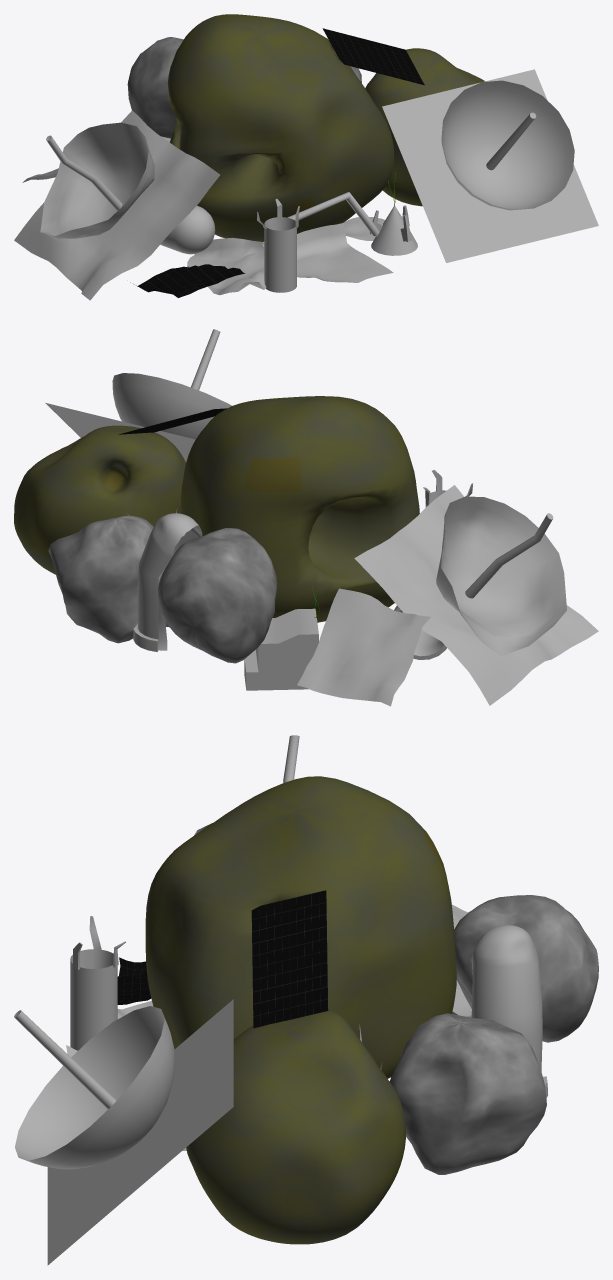
The model's file is pileOfShit.fbx.
The picture shows the model from 3 angles, top to bottom: view 1: azimuth 30°, elevation 25°; view 2: azimuth 150°, elevation 25°; view 3: azimuth 270°, elevation 25°; orthographic projection. The views are drawn at different scales.
Visible parts, largest first — view 1: Asteroid2, Satallite_Debris, Satallite_Debris1, Asteroid1, sheetMEtal_Debris1, AsteroidGrey, sheetMEtal_Debris2, solarPanel, moreDebris, solarPanel_damaged, Ship_Debris, spaceDebrisCone (+2 smaller); view 2: Asteroid2, Satallite_Debris1, Asteroid1, AsteroidGrey, sheetMEtal_Debris, AsteroidGrey1, Satallite_Debris, SpaceDebrisCube, Ship_Debris1, solarPanel, Ship_Debris; view 3: Asteroid2, Asteroid1, Satallite_Debris, AsteroidGrey1, AsteroidGrey, solarPanel, Ship_Debris1, moreDebris, solarPanel_damaged.
Boxes of the visible parts, box(x1,y1,x2,y2) form: Asteroid2: box(167, 14, 394, 241); Satallite_Debris: box(382, 69, 598, 262); Satallite_Debris1: box(14, 110, 220, 300); Asteroid1: box(365, 48, 484, 206); sheetMEtal_Debris1: box(262, 223, 393, 282); AsteroidGrey: box(127, 37, 183, 138); sheetMEtal_Debris2: box(187, 237, 266, 295); solarPanel: box(322, 28, 424, 85); moreDebris: box(257, 198, 299, 292); solarPanel_damaged: box(130, 264, 245, 297); Ship_Debris: box(160, 205, 215, 254); spaceDebrisCone: box(370, 205, 417, 255); Asteroid2: box(181, 396, 419, 622); Satallite_Debris1: box(354, 485, 598, 705); Asteroid1: box(14, 425, 185, 574); AsteroidGrey: box(158, 528, 277, 663); sheetMEtal_Debris: box(297, 588, 430, 706); AsteroidGrey1: box(48, 515, 153, 643); Satallite_Debris: box(45, 329, 231, 462); SpaceDebrisCube: box(244, 608, 318, 690); Ship_Debris1: box(133, 513, 202, 651); solarPanel: box(118, 408, 226, 434); Ship_Debris: box(394, 605, 446, 659); Asteroid2: box(145, 776, 456, 1078); Asteroid1: box(186, 1010, 405, 1244); Satallite_Debris: box(14, 999, 233, 1265); AsteroidGrey1: box(389, 1013, 546, 1174); AsteroidGrey: box(454, 895, 598, 1042); solarPanel: box(251, 890, 328, 1028); Ship_Debris1: box(471, 925, 547, 1098); moreDebris: box(70, 916, 125, 1050); solarPanel_damaged: box(117, 957, 151, 1004).
Bounding box in the file's own units: 109 × 46.74 × 81.12.
